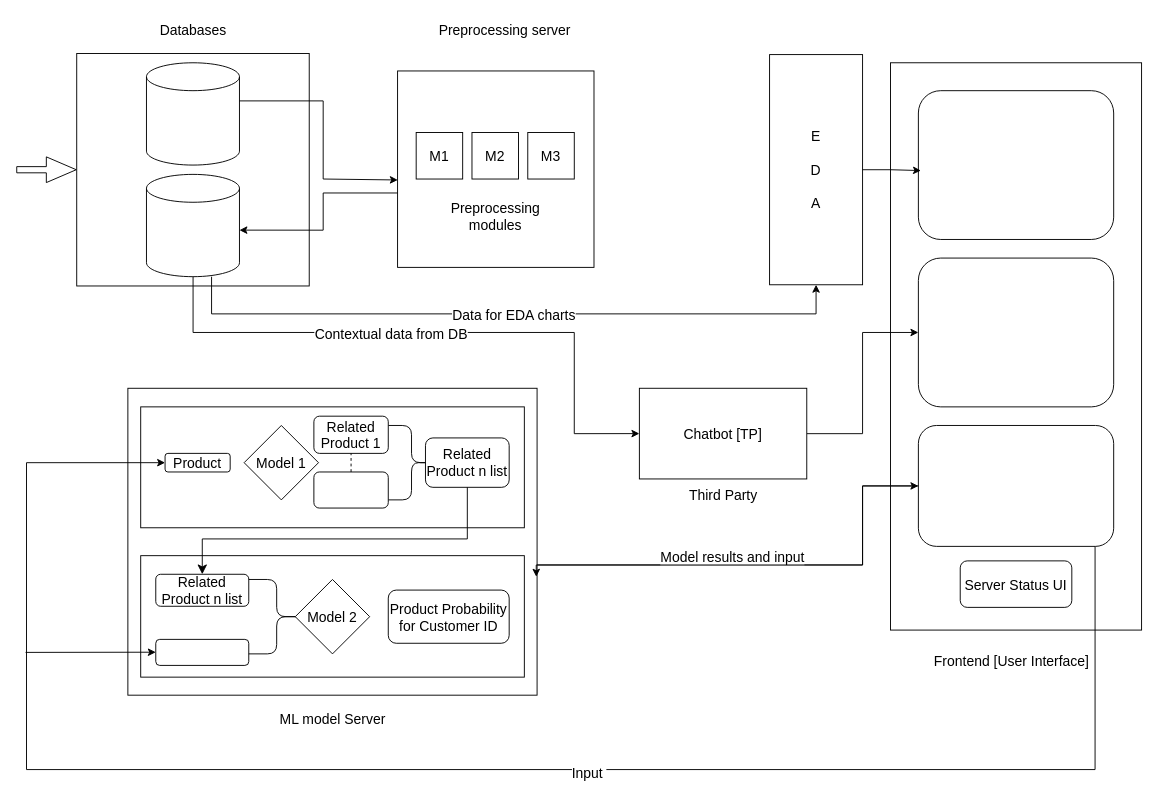
The diagram is 1158 pixels wide and 797 high, and some of its shapes have lost their labels. Each missing label, with the centre of its shape:
"Consumer Facing screen" goes at (x=1015, y=164).
"Customer IDs" goes at (x=202, y=651).
"Non-technical Internal tool" goes at (x=1015, y=332).
"Related Product n" goes at (x=350, y=489).
"Structured DB" goes at (x=192, y=225).
"Technical Internal tool" goes at (x=1015, y=485).
"Unstructured DB" goes at (x=192, y=113).
